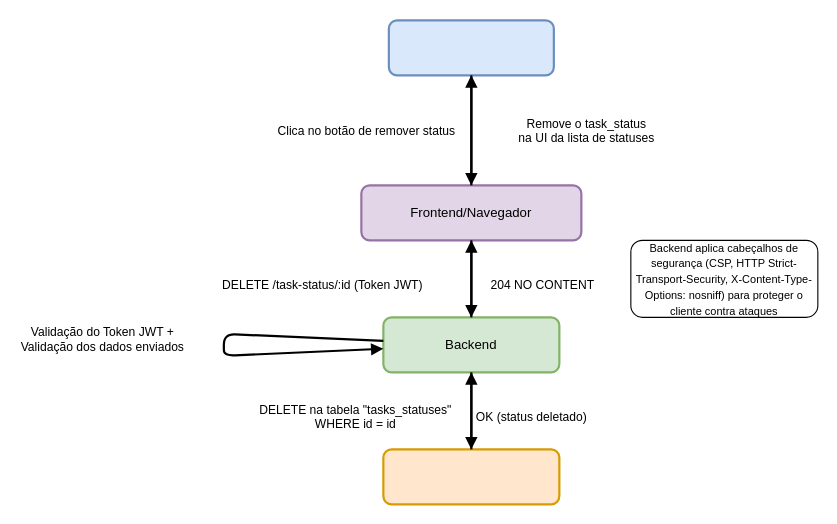
This 837x524 diagram has some shape labels left out. Here are the shapes that lost their labels. From the top down, the centre of each, then its label:
At (470,47): "Usuário".
At (471,476): "Banco de Dados".
